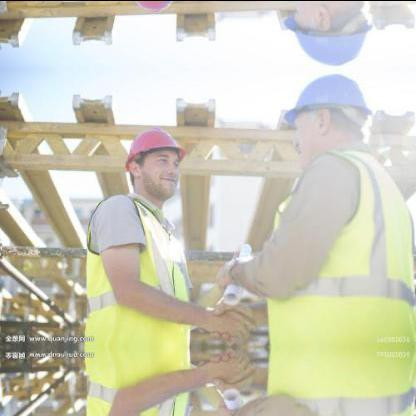Helmet: (276, 68, 384, 176), (275, 0, 385, 69), (118, 119, 188, 199), (117, 0, 189, 18)
